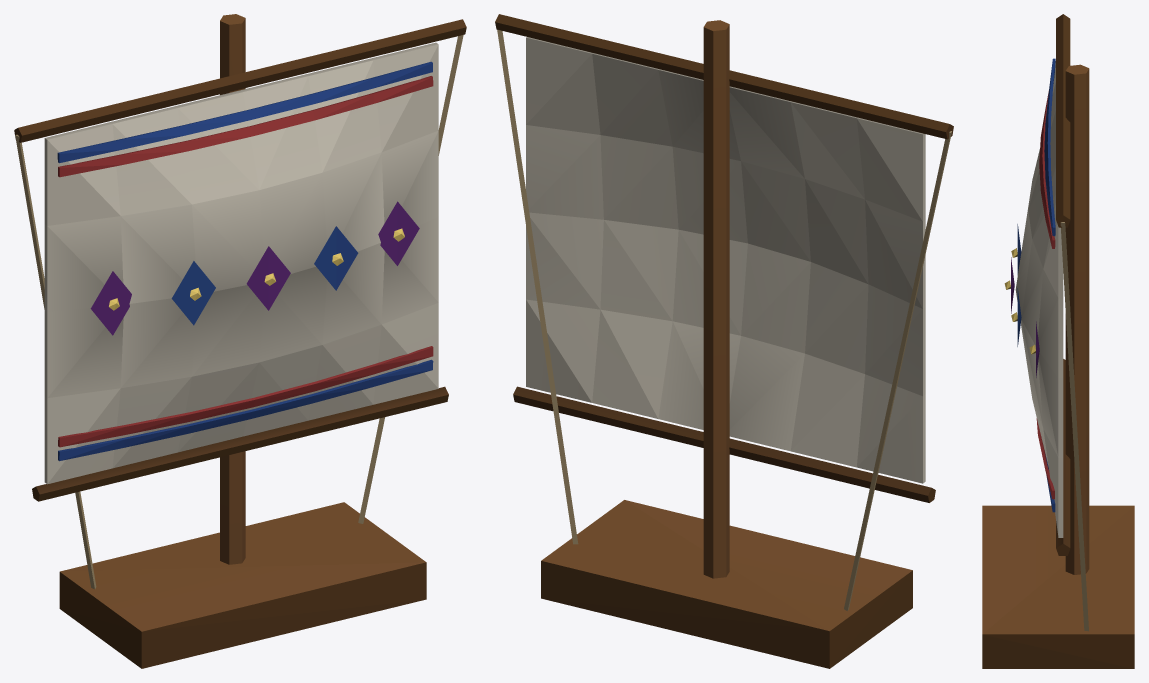
3 views of the same model, side by side, from view 1: azimuth 30°, elevation 25°; view 2: azimuth 150°, elevation 25°; view 3: azimuth 270°, elevation 25° (orthographic). The views are drawn at different scales.
Parts seen in each view (by area): view 1: base; view 2: base; view 3: base.
Part boxes in pixels (<box>): base: <box>14,14,466,668</box>; base: <box>495,14,953,668</box>; base: <box>982,14,1134,668</box>.
Bounding box in the file's own units: 0.5041 × 0.62 × 0.16.
